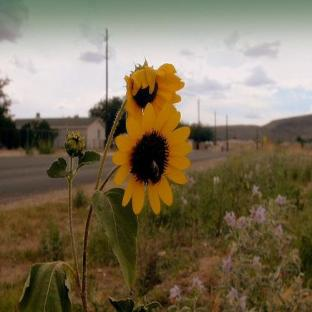sunflower: (95, 58, 192, 215)
